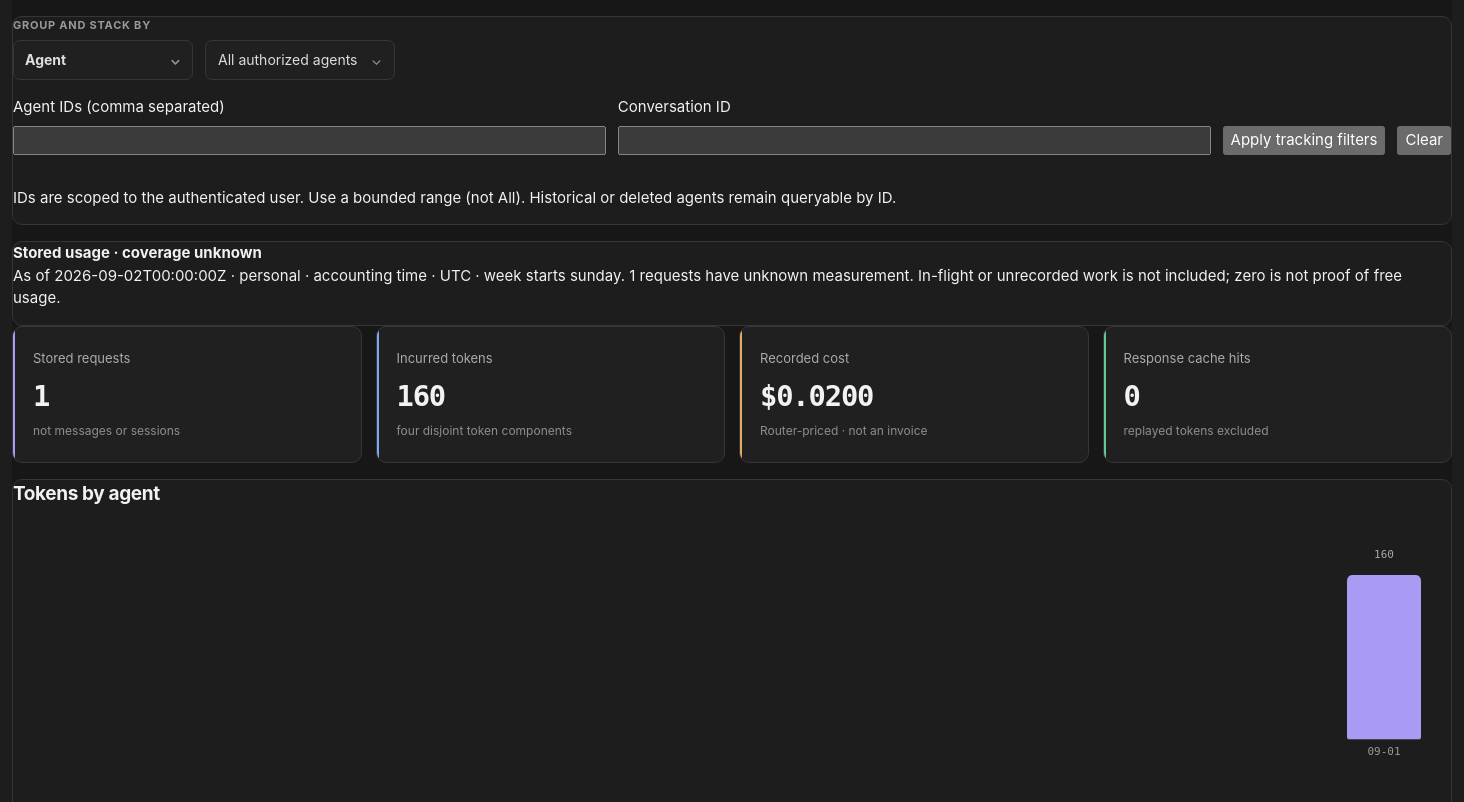
Test: shows stored cost with explicit unknown coverage, groups and searchable agent selection
Expected: the text "Stored usage · coverage unknown" is shown, x1=13 y1=243 x2=262 y2=262
Expected: the text "zero is not proof of free usage" is shown, x1=13 y1=266 x2=1402 y2=307
Click the heading "All authorized agents": click(300, 60) x1=205 y1=40 x2=395 y2=80
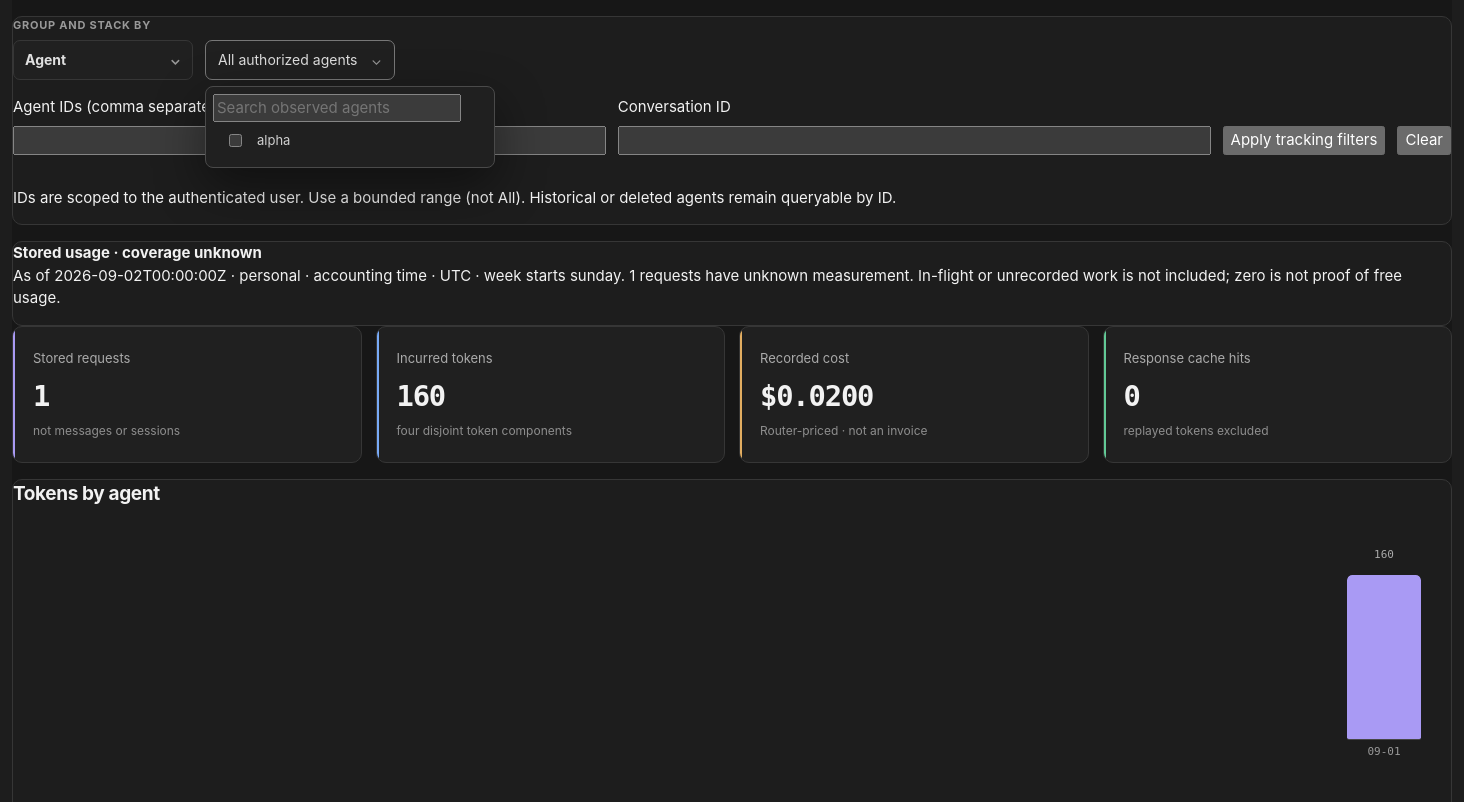
In the field named "Search agents": (337, 108) x1=213 y1=94 x2=461 y2=122, type "alp"
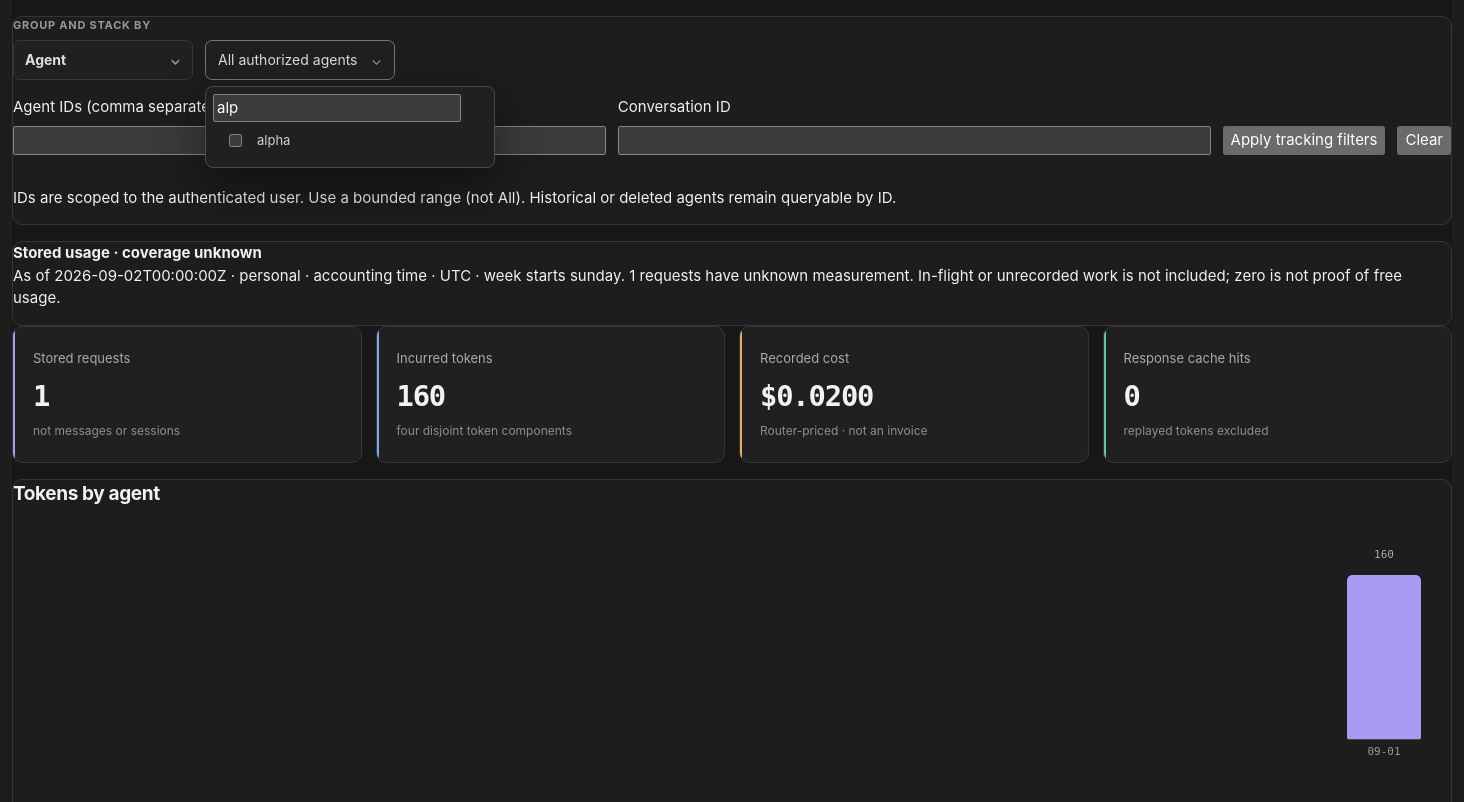
Click the checkbox labelled "alpha": click(236, 141) x1=226 y1=134 x2=245 y2=147
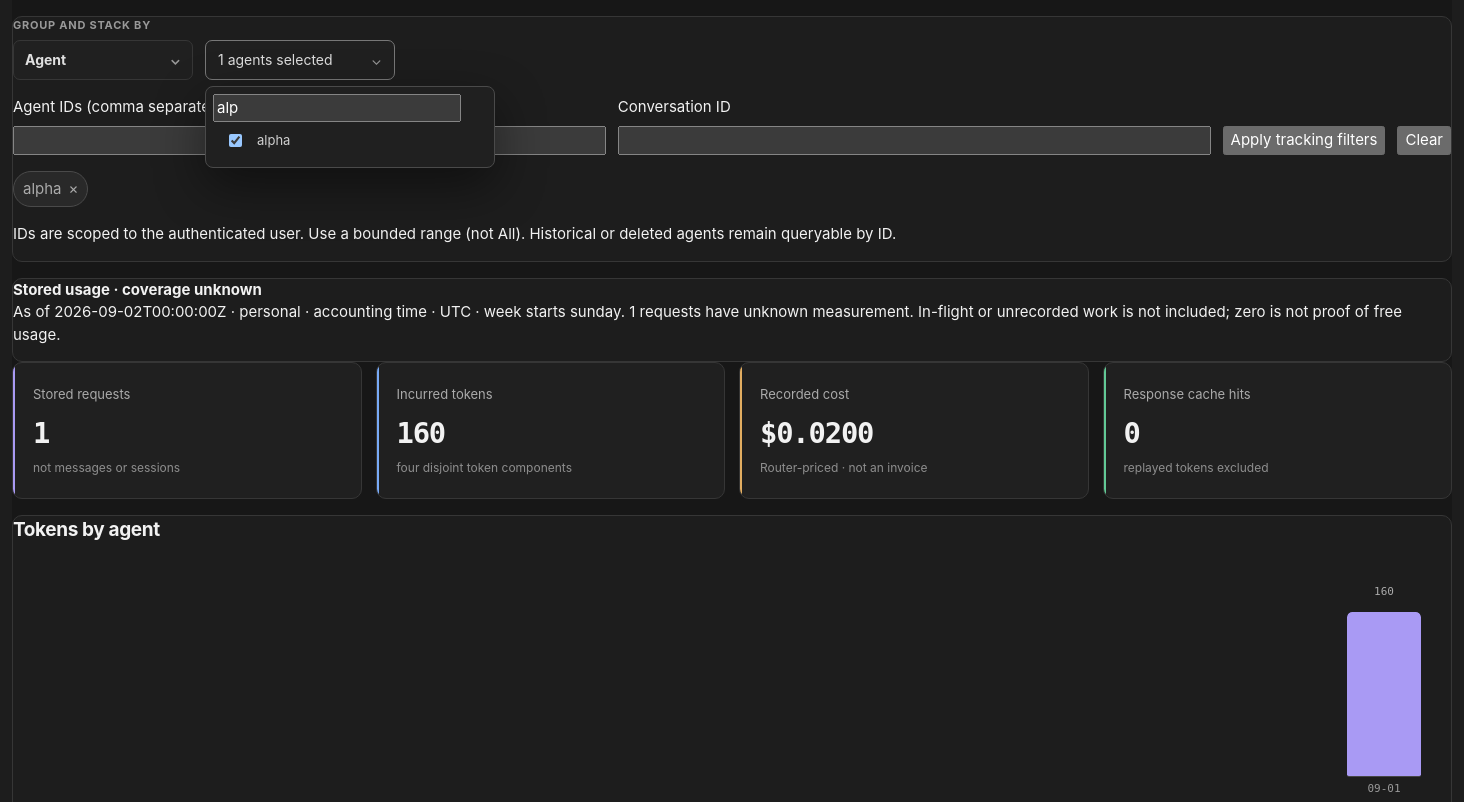
Now the button with aria-label "Remove alpha" is shown, box x1=13 y1=170 x2=88 y2=207
